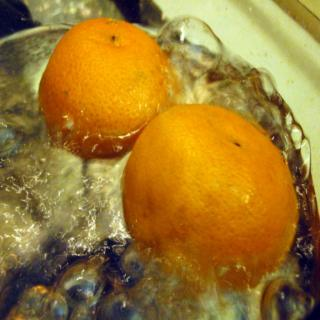Orange: (125, 106, 299, 290), (40, 16, 174, 154)
